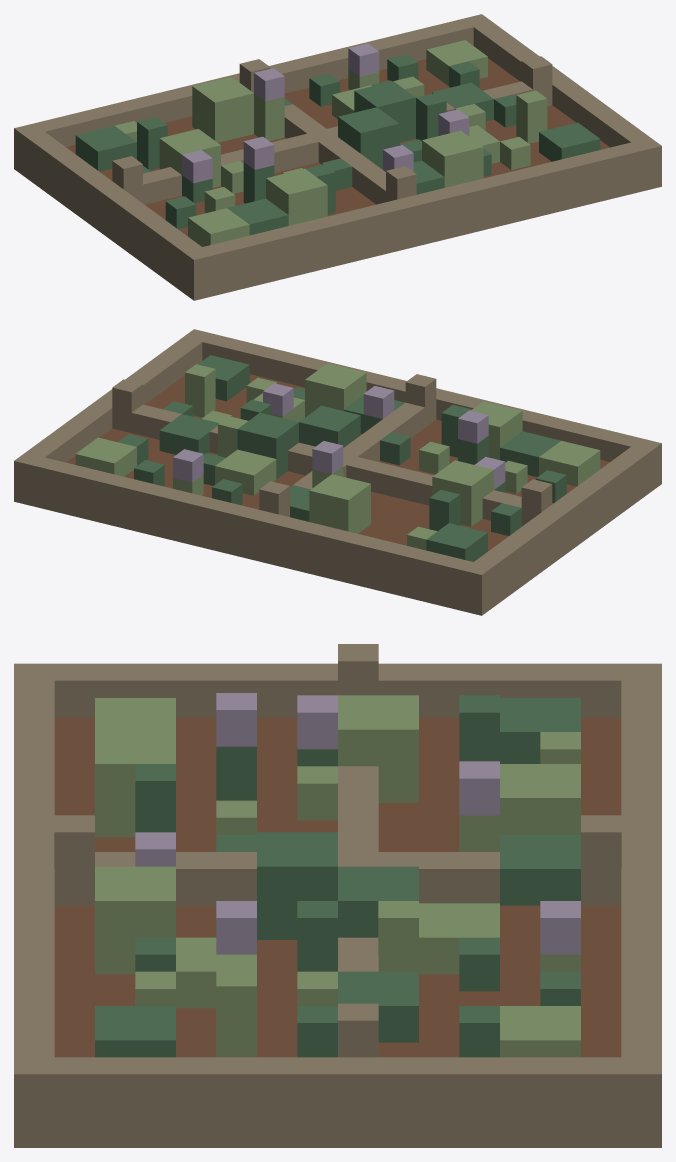
The model's file is hearthvale_garden_herbs_24x16.obj.
3 views of the same model, one above another, from view 1: azimuth 30°, elevation 25°; view 2: azimuth 150°, elevation 25°; view 3: azimuth 270°, elevation 25° (orthographic). The views are drawn at different scales.
Parts seen in each view (by area): view 1: palette_1, palette_4, palette_3, palette_2, palette_5; view 2: palette_1, palette_4, palette_3, palette_2, palette_5; view 3: palette_1, palette_2, palette_4, palette_3, palette_5.
Part boxes in pixels (bbox=[...]): palette_1: bbox=[14, 14, 661, 300]; palette_4: bbox=[115, 40, 547, 246]; palette_3: bbox=[75, 54, 600, 235]; palette_2: bbox=[66, 58, 609, 236]; palette_5: bbox=[182, 43, 469, 183]; palette_1: bbox=[14, 329, 661, 615]; palette_4: bbox=[75, 363, 600, 550]; palette_3: bbox=[118, 355, 566, 561]; palette_2: bbox=[66, 374, 609, 551]; palette_5: bbox=[173, 383, 505, 489]; palette_1: bbox=[14, 644, 661, 1147]; palette_2: bbox=[54, 717, 621, 1057]; palette_4: bbox=[95, 695, 580, 1057]; palette_3: bbox=[95, 695, 580, 1057]; palette_5: bbox=[135, 693, 580, 954].
Bounding box in the file's own units: 1.5 × 0.25 × 1.
